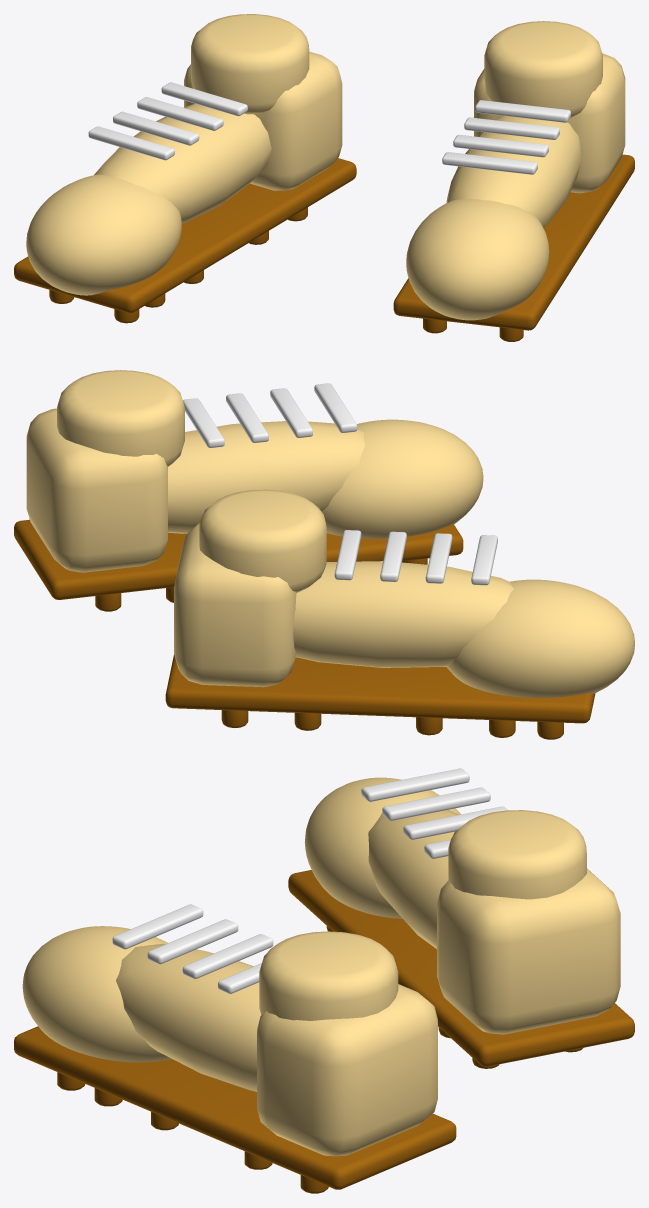
File: reward-boots-gold.glb
3 renders of one model, top to bottom at view 1: azimuth 30°, elevation 25°; view 2: azimuth 150°, elevation 25°; view 3: azimuth 270°, elevation 25°, orthographic. The views are drawn at different scales.
Visible parts, largest first — view 1: toe, toe.001, sole, upper, collar, collar.001, heel, sole.001, upper.001, heel.001, lace.006, lace.004 (+6 smaller); view 2: upper, heel.001, toe, sole, heel, toe.001, upper.001, collar, collar.001, sole.001, lace.007, lace.005 (+6 smaller); view 3: heel, heel.001, sole.001, upper.001, toe.001, sole, collar.001, collar, toe, upper, lace.003, lace.002 (+5 smaller).
Boxes of the visible parts, <box> form: toe: <box>26,174,181,295</box>; toe.001: <box>406,199,549,320</box>; sole: <box>14,158,356,312</box>; upper: <box>94,103,271,223</box>; collar: <box>191,14,309,114</box>; collar.001: <box>484,21,602,118</box>; heel: <box>184,51,342,190</box>; sole.001: <box>393,154,634,330</box>; upper.001: <box>446,115,582,228</box>; heel.001: <box>474,53,625,193</box>; lace.006: <box>453,134,548,157</box>; lace.004: <box>475,100,570,122</box>; upper: <box>293,561,513,667</box>; heel.001: <box>26,408,167,572</box>; toe: <box>446,579,634,697</box>; sole: <box>165,654,595,723</box>; heel: <box>174,523,296,687</box>; toe.001: <box>322,419,483,538</box>; upper.001: <box>168,421,365,533</box>; collar: <box>199,489,326,592</box>; collar.001: <box>57,370,184,466</box>; sole.001: <box>14,519,463,599</box>; lace.007: <box>314,383,357,432</box>; lace.005: <box>226,393,268,442</box>; heel: <box>437,868,620,1034</box>; heel.001: <box>257,984,437,1156</box>; sole.001: <box>14,1026,456,1189</box>; upper.001: <box>116,943,261,1091</box>; toe.001: <box>22,926,171,1062</box>; sole: <box>288,870,634,1066</box>; collar.001: <box>259,931,398,1020</box>; collar: <box>448,810,586,899</box>; toe: <box>304,777,460,918</box>; upper: <box>368,802,458,948</box>; lace.003: <box>361,768,469,801</box>; lace.002: <box>382,787,490,820</box>.
Bounding box in the file's own units: 3.84 × 1.15 × 3.03.
